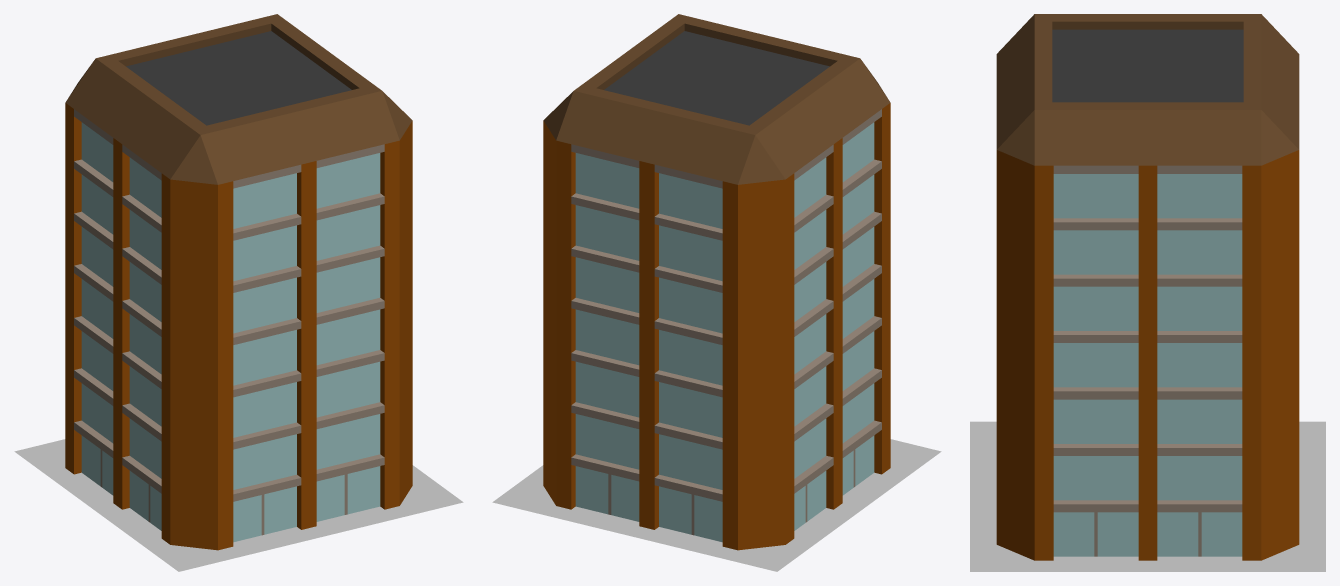
Rendered from building1-3.dae.
3 renders of one model, left to right at view 1: azimuth 30°, elevation 25°; view 2: azimuth 150°, elevation 25°; view 3: azimuth 270°, elevation 25°, orthographic. The views are drawn at different scales.
Visible parts, largest first — view 1: SketchUp (×65); view 2: SketchUp (×65); view 3: SketchUp (×37).
Part boxes in pixels (box(x1,y1,x2,y2)): SketchUp (×65): box(14, 14, 463, 571); SketchUp (×65): box(492, 14, 941, 571); SketchUp (×37): box(970, 14, 1325, 571).
Size of the model in its own units: 39.37 by 39.37 by 53.11.
